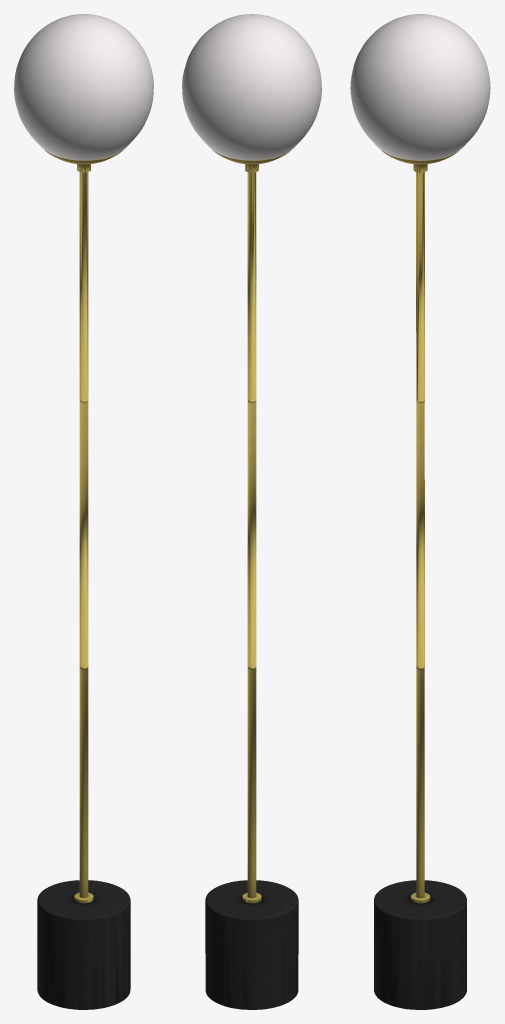
File: B082XMFBY2.glb
3 views of the same model, side by side, from view 1: azimuth 30°, elevation 25°; view 2: azimuth 150°, elevation 25°; view 3: azimuth 270°, elevation 25° (orthographic).
Parts seen in each view (by area): view 1: RootNode; view 2: RootNode; view 3: RootNode.
Boxes of the visible parts, x1,y1,x2,y2 form: RootNode: (14, 14, 153, 1009); RootNode: (182, 14, 321, 1009); RootNode: (350, 14, 490, 1009).
Size of the model in its own units: 0.2287 by 1.75 by 0.2287.
Materials: 1 (1 with a texture image).
